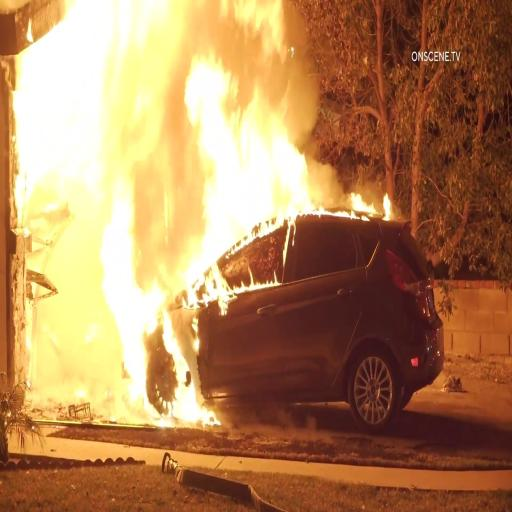fire: (32, 0, 136, 402), (130, 0, 291, 204), (134, 198, 209, 434), (213, 214, 281, 306), (298, 176, 397, 232)
